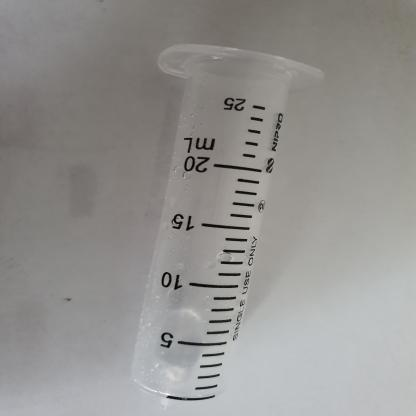wet: (118, 36, 328, 408)
